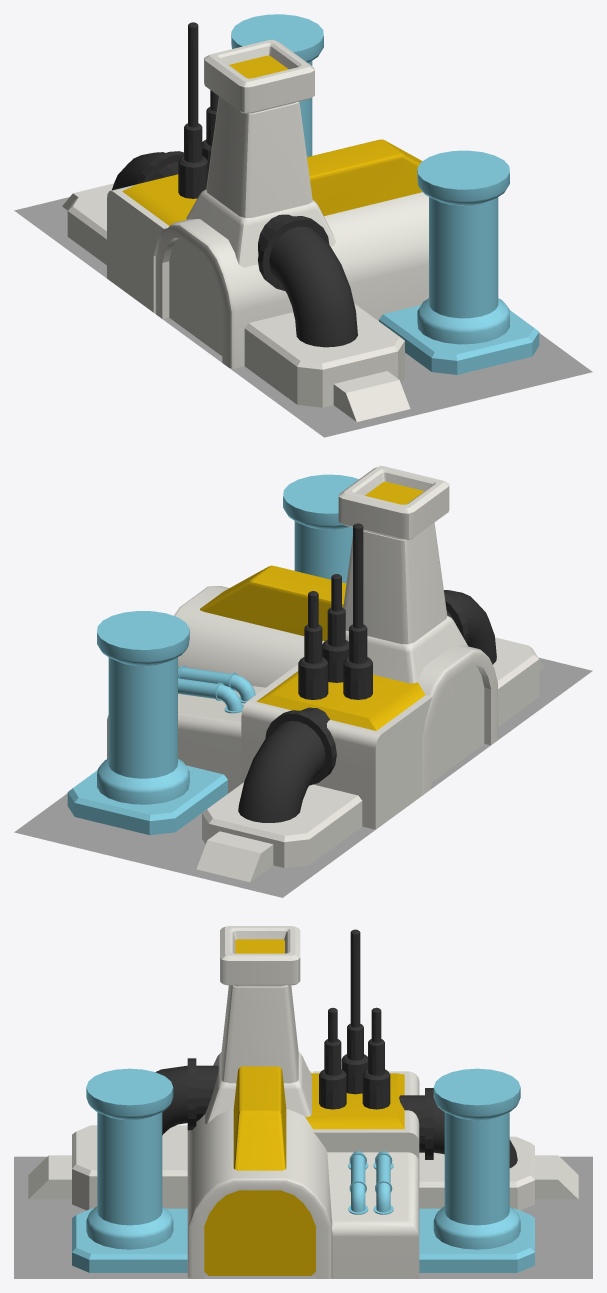
File: Refinery.fbx
3 renders of one model, top to bottom at view 1: azimuth 30°, elevation 25°; view 2: azimuth 150°, elevation 25°; view 3: azimuth 270°, elevation 25°, orthographic. The views are drawn at different scales.
Visible parts, largest first — view 1: polySurface17; view 2: polySurface17; view 3: polySurface17.
Boxes of the visible parts, <box> form: polySurface17: <box>14,14,592,437</box>; polySurface17: <box>14,466,592,897</box>; polySurface17: <box>14,926,592,1278</box>.
Bounding box in the file's own units: 200 × 190 × 400.
